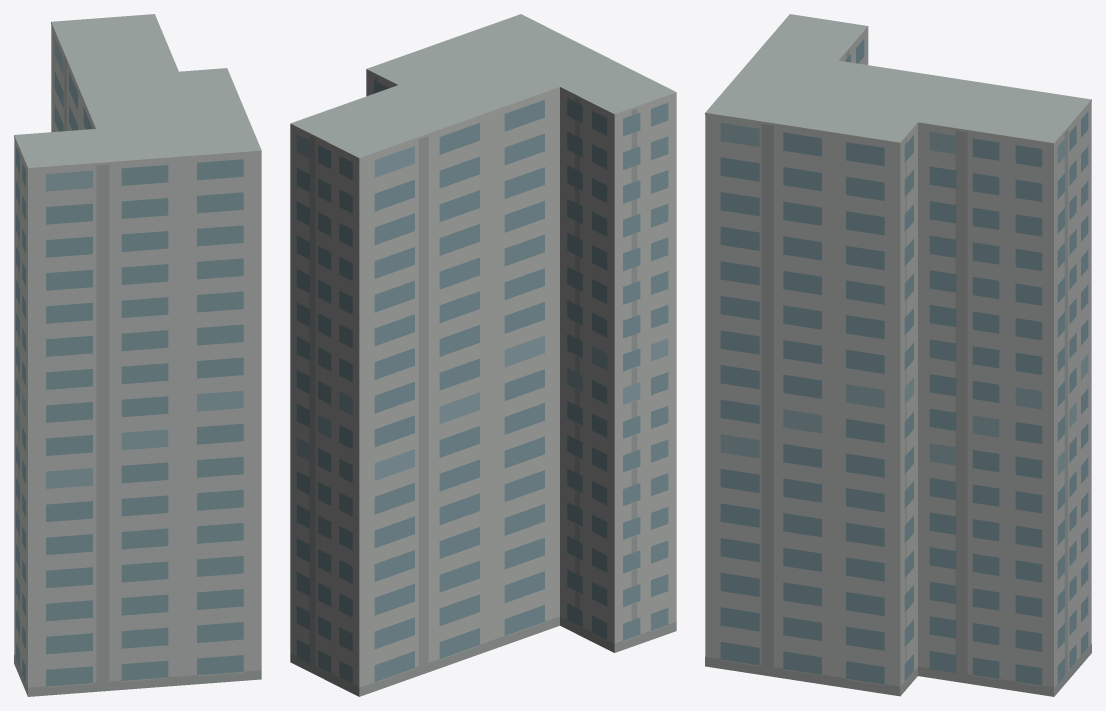
The model's file is residential-8dbc09d5-6ee9-4319-b408-1c214d3373a3.glb.
The picture shows the model from 3 angles, left to right: view 1: azimuth 30°, elevation 25°; view 2: azimuth 150°, elevation 25°; view 3: azimuth 270°, elevation 25°; orthographic projection. The views are drawn at different scales.
Visible parts, largest first — view 1: residential-8dbc09d5-6ee9-4319-b408-1c214d3373a3.tmp; view 2: residential-8dbc09d5-6ee9-4319-b408-1c214d3373a3.tmp; view 3: residential-8dbc09d5-6ee9-4319-b408-1c214d3373a3.tmp.
Boxes of the visible parts, bbox=[...] form: residential-8dbc09d5-6ee9-4319-b408-1c214d3373a3.tmp: bbox=[14, 14, 261, 696]; residential-8dbc09d5-6ee9-4319-b408-1c214d3373a3.tmp: bbox=[290, 14, 676, 696]; residential-8dbc09d5-6ee9-4319-b408-1c214d3373a3.tmp: bbox=[705, 14, 1091, 696].
Bounding box in the file's own units: 27.04 × 54 × 34.19.
